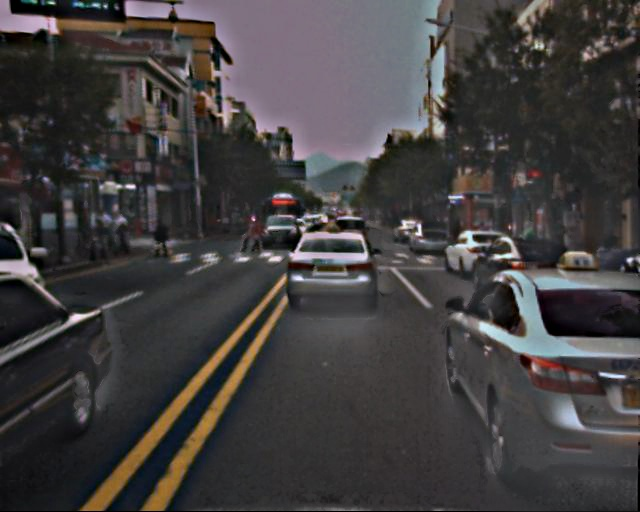person: (592, 236, 635, 341), (93, 212, 174, 254), (551, 217, 572, 267), (251, 214, 268, 255), (239, 227, 249, 252)
